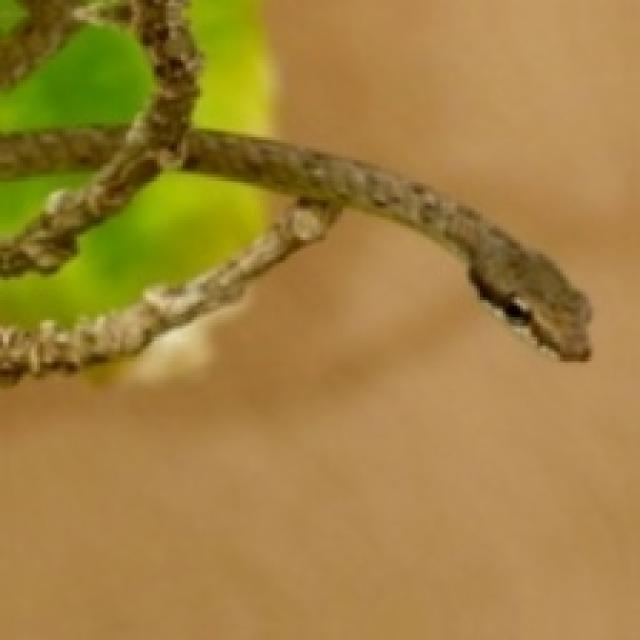philippine whip snake: (183, 129, 589, 357), (0, 128, 126, 177)
